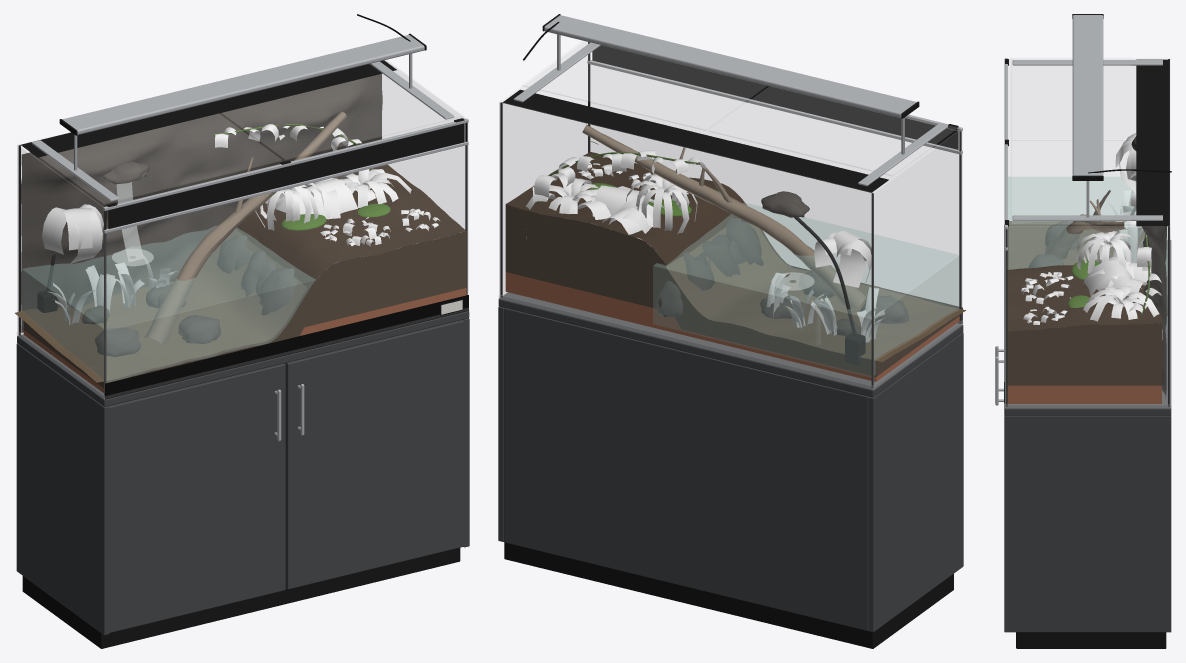
Rendered from paludarium.glb.
3 views of the same model, side by side, from view 1: azimuth 30°, elevation 25°; view 2: azimuth 150°, elevation 25°; view 3: azimuth 270°, elevation 25° (orthographic). The views are drawn at different scales.
Visible parts, largest first — view 1: paludarium__laminate_grey, paludarium__glass__noshadow, paludarium__rock_dark__noshadow, paludarium__water__noshadow, paludarium__soil__noshadow, paludarium__gravel_wet__noshadow, paludarium__aluminium, paludarium__leaf__noshadow, paludarium__plastic_black, paludarium__silicone_black, paludarium__perforated__noshadow, paludarium__mesh_screen__noshadow (+4 smaller); view 2: paludarium__laminate_grey, paludarium__glass__noshadow, paludarium__water__noshadow, paludarium__soil__noshadow, paludarium__leaf__noshadow, paludarium__aluminium, paludarium__gravel_wet__noshadow, paludarium__plastic_black, paludarium__rock_dark__noshadow, paludarium__mesh_screen__noshadow, paludarium__perforated__noshadow, paludarium__clay_pebble__noshadow (+2 smaller); view 3: paludarium__glass__noshadow, paludarium__laminate_grey, paludarium__soil__noshadow, paludarium__water__noshadow, paludarium__aluminium, paludarium__leaf__noshadow, paludarium__mesh_screen__noshadow, paludarium__clay_pebble__noshadow, paludarium__plastic_black, paludarium__rock_dark__noshadow, paludarium__gravel_wet__noshadow, paludarium__driftwood__noshadow (+2 smaller).
Part boxes in pixels (x1,y1,x2,y2): paludarium__laminate_grey: (16,277,469,635); paludarium__glass__noshadow: (17,60,468,399); paludarium__rock_dark__noshadow: (21,74,382,356); paludarium__water__noshadow: (21,226,315,382); paludarium__soil__noshadow: (23,164,466,388); paludarium__gravel_wet__noshadow: (15,229,306,382); paludarium__aluminium: (31,35,468,441); paludarium__leaf__noshadow: (42,124,440,324); paludarium__plastic_black: (22,33,464,648); paludarium__silicone_black: (18,122,468,399); paludarium__perforated__noshadow: (108,123,464,228); paludarium__mesh_screen__noshadow: (20,60,396,157); paludarium__laminate_grey: (498,292,963,632); paludarium__glass__noshadow: (499,41,962,389); paludarium__water__noshadow: (653,203,958,376); paludarium__soil__noshadow: (505,152,959,376); paludarium__leaf__noshadow: (525,150,885,342); paludarium__aluminium: (513,15,962,186); paludarium__gravel_wet__noshadow: (666,219,965,362); paludarium__plastic_black: (504,14,958,648); paludarium__rock_dark__noshadow: (589,140,908,336); paludarium__mesh_screen__noshadow: (502,89,888,192); paludarium__perforated__noshadow: (592,45,958,149); paludarium__clay_pebble__noshadow: (505,272,959,381); paludarium__glass__noshadow: (1004,57,1170,408); paludarium__laminate_grey: (1004,240,1171,632); paludarium__soil__noshadow: (1007,226,1161,385); paludarium__water__noshadow: (1008,177,1167,328); paludarium__aluminium: (995,15,1162,405); paludarium__leaf__noshadow: (1021,133,1162,339); paludarium__mesh_screen__noshadow: (1136,59,1169,226); paludarium__clay_pebble__noshadow: (1007,385,1161,403); paludarium__plastic_black: (1004,14,1166,648); paludarium__rock_dark__noshadow: (1028,136,1167,398); paludarium__gravel_wet__noshadow: (1009,221,1144,269); paludarium__driftwood__noshadow: (1045,190,1127,259).
Bounding box in the file's own units: 1.22 × 1.56 × 0.5274.
